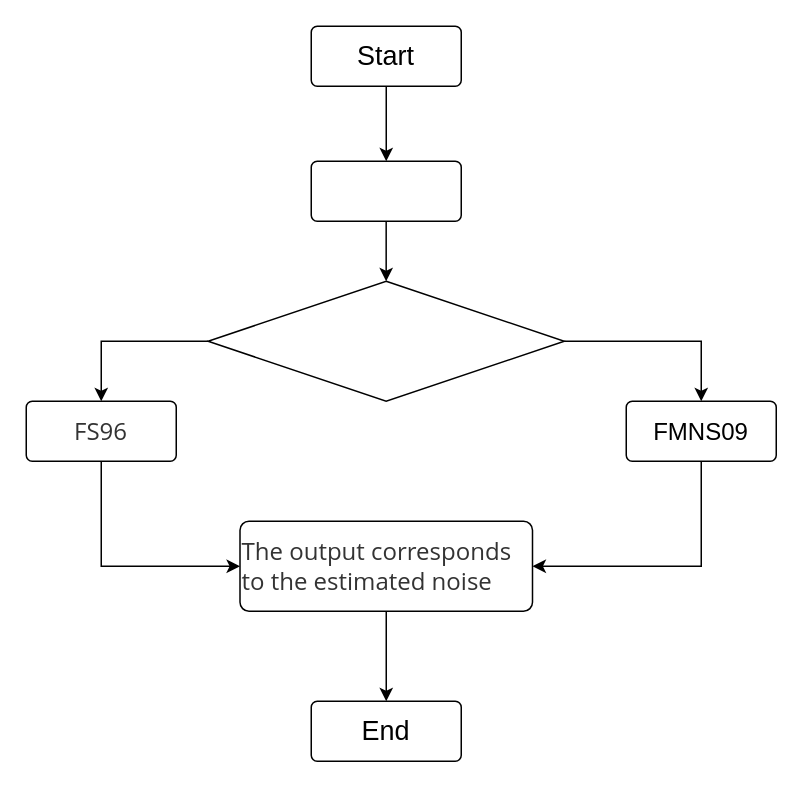
Image size: 803x788. Some labels were removed from this diagram. The box of each missing label's shape, as (x1, y1, x2, y2) in pixels:
Choose the noise estimation algorithm: (207, 280, 564, 401)
Input image: (310, 160, 461, 221)
